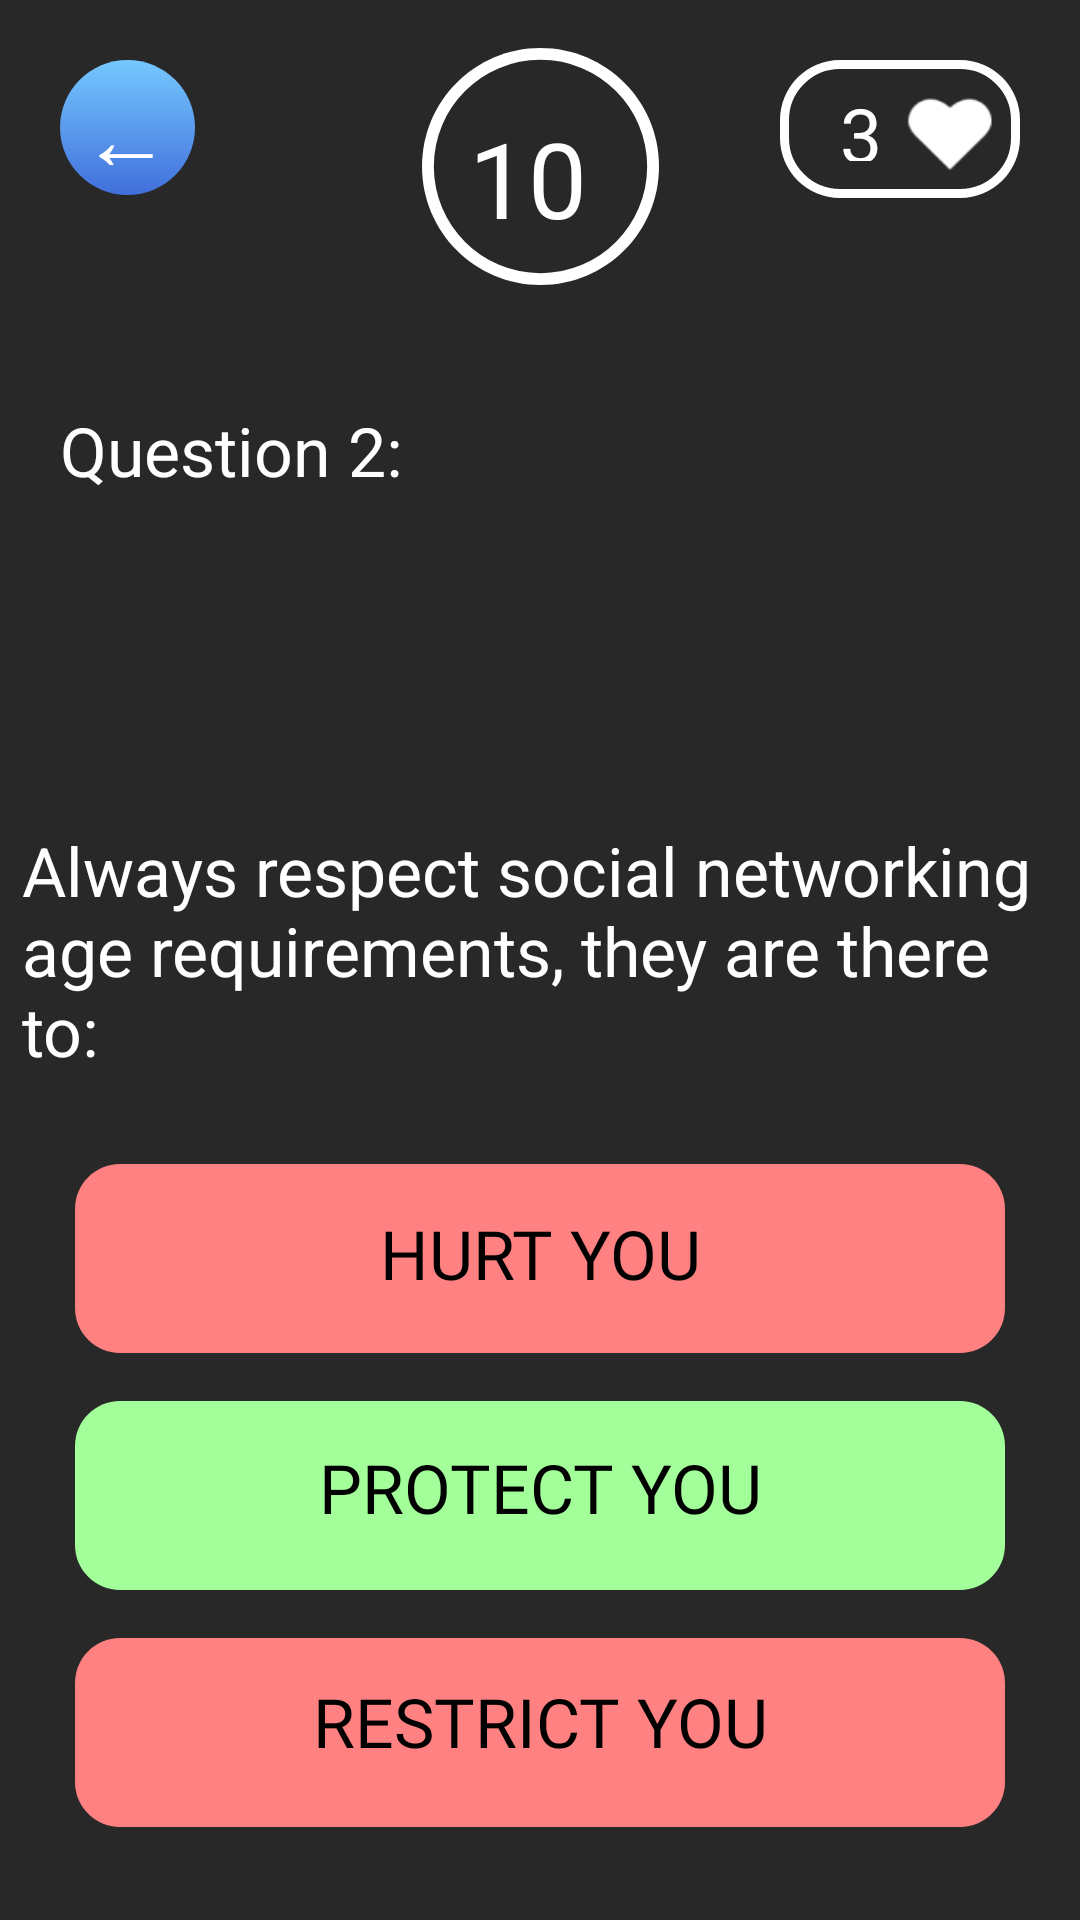

Where to tap for icons on this 1080×1920 app screen, as [x,y]:
back: [127,127]
hearticon: [950,134]
